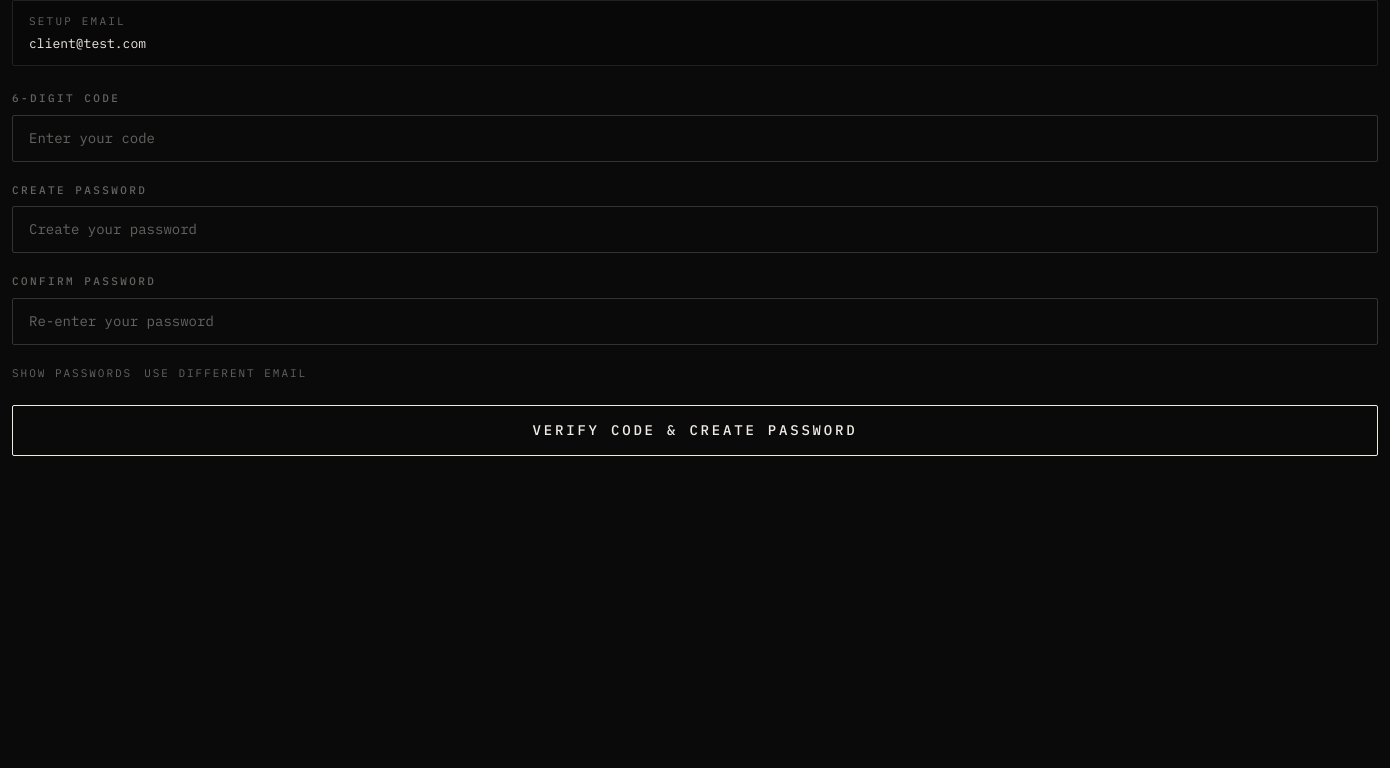
Test case: ClientVerifySetupCodeForm › shows validation errors when submitted empty
Step 1. Click the button "Verify Code & Create Password" → coordinates (695, 430), box left=12, top=405, right=1378, bottom=456
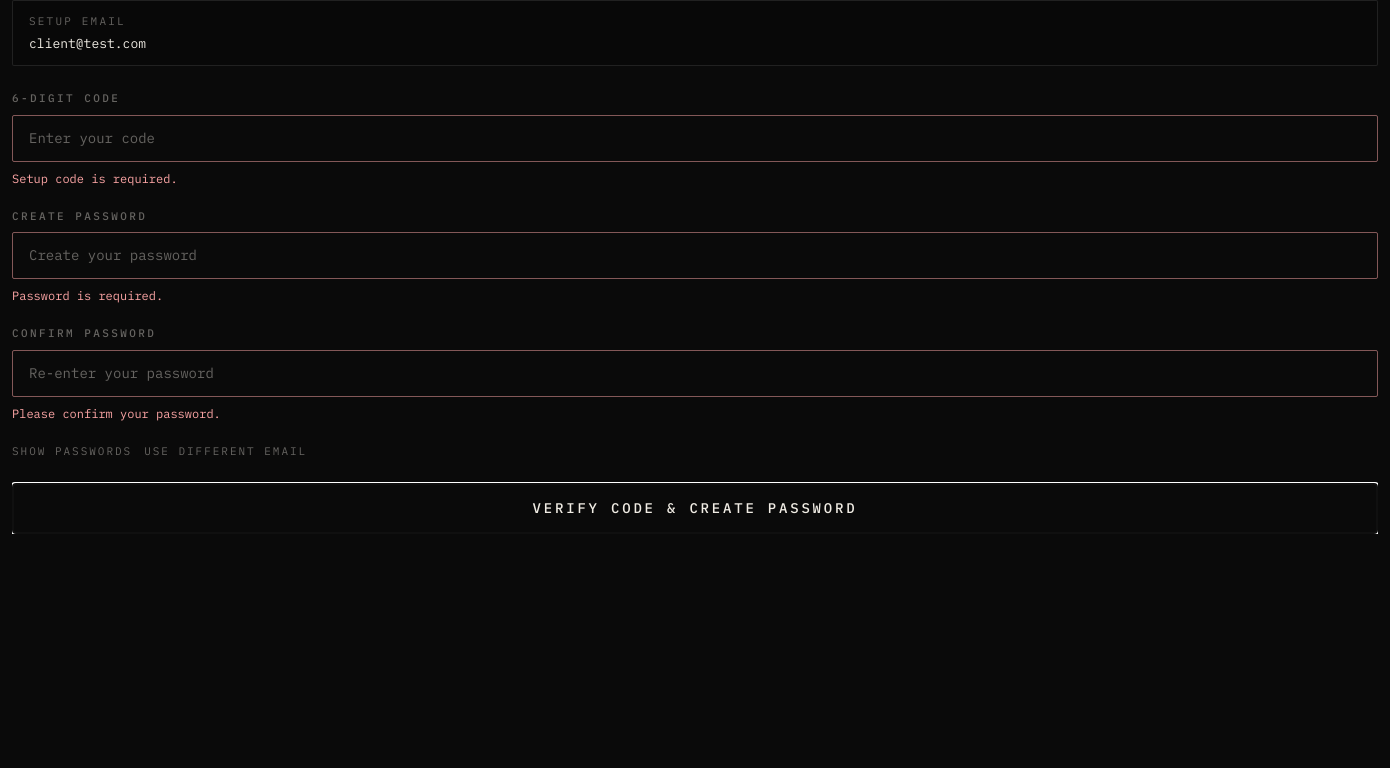
expect the text "Setup code is required." is shown: met, box left=12, top=170, right=178, bottom=186
expect the text "Password is required." is shown: met, box left=12, top=288, right=163, bottom=303
expect the text "Please confirm your password." is shown: met, box left=12, top=406, right=221, bottom=420
